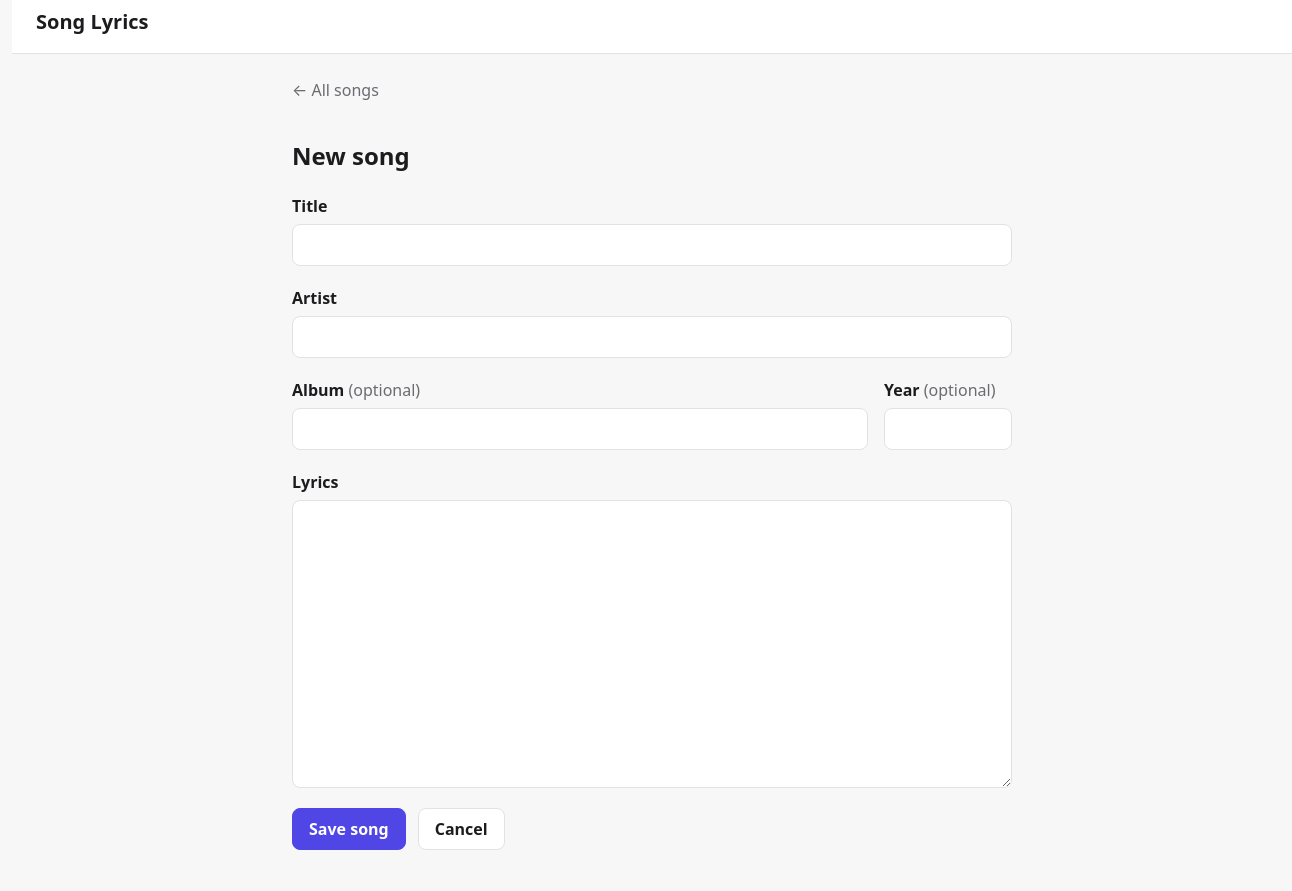
Scenario: SongFormPage — create › shows field errors returned by the server
The image size is (1292, 891).
Type "Sample" into the field labelled "Title" at coordinates (652, 245), box [292,224,1012,266]
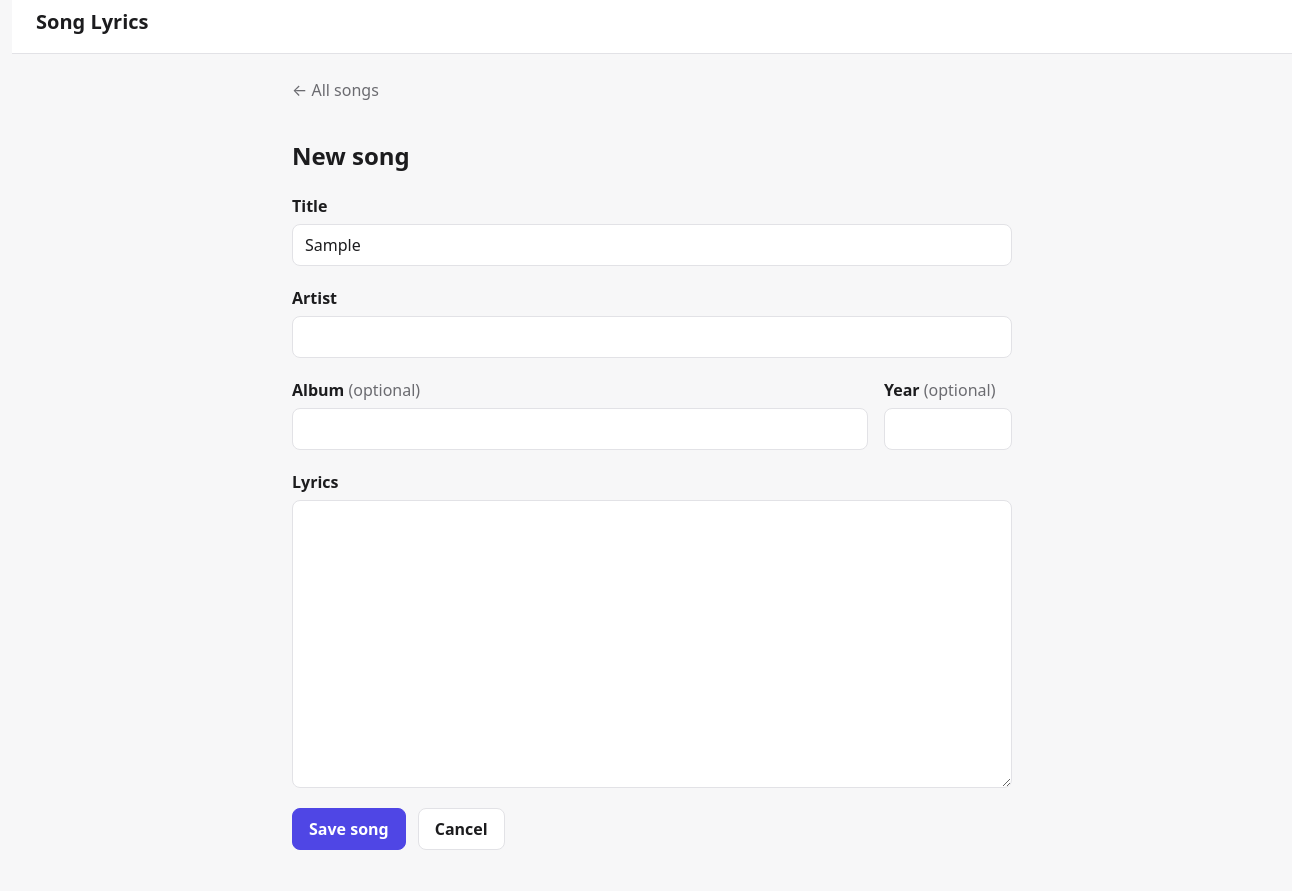
Type "Example Band" into the field labelled "Artist" at coordinates (652, 337), box [292,316,1012,358]
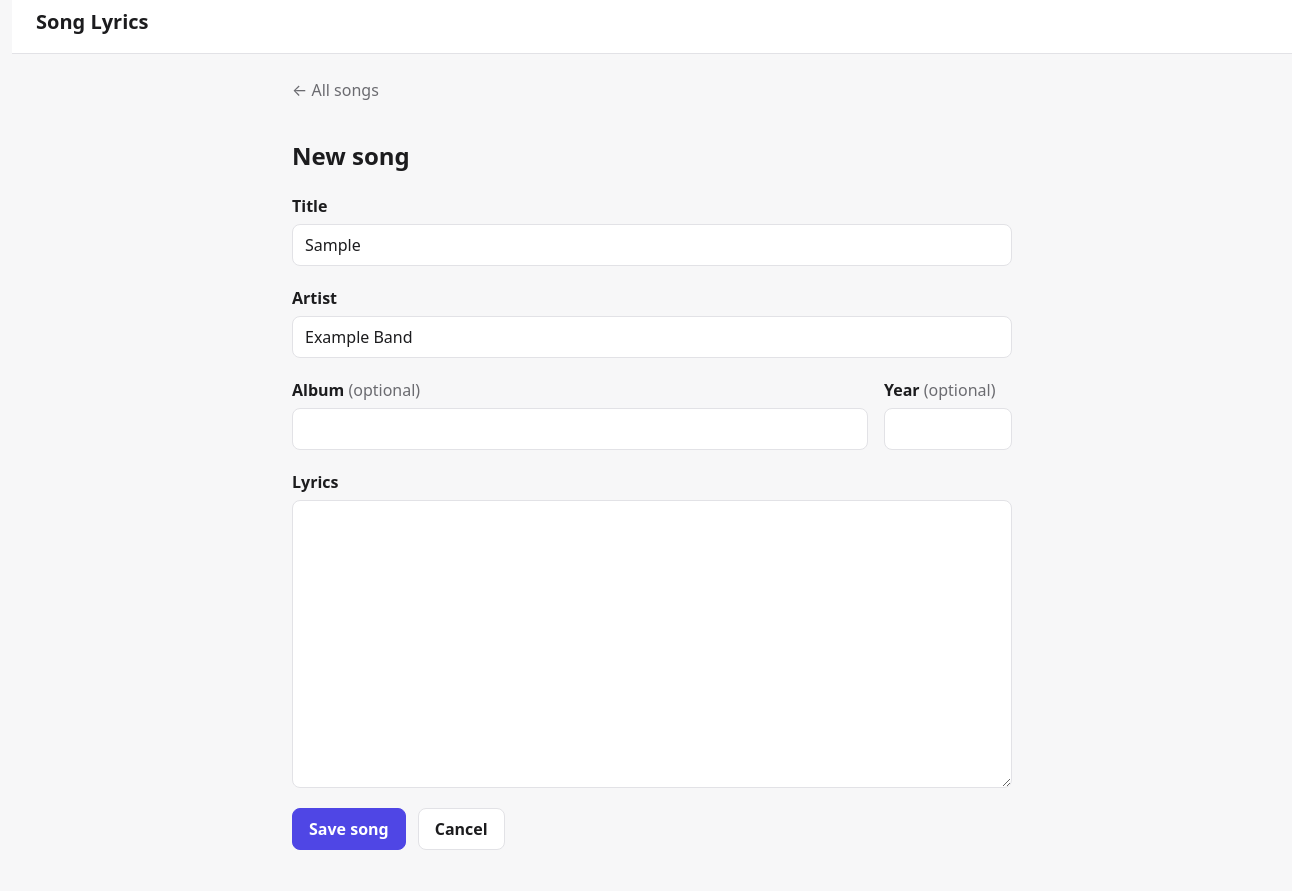
Type "Placeholder line" into the text box labelled "Lyrics" at coordinates (652, 644), box [292,500,1012,788]
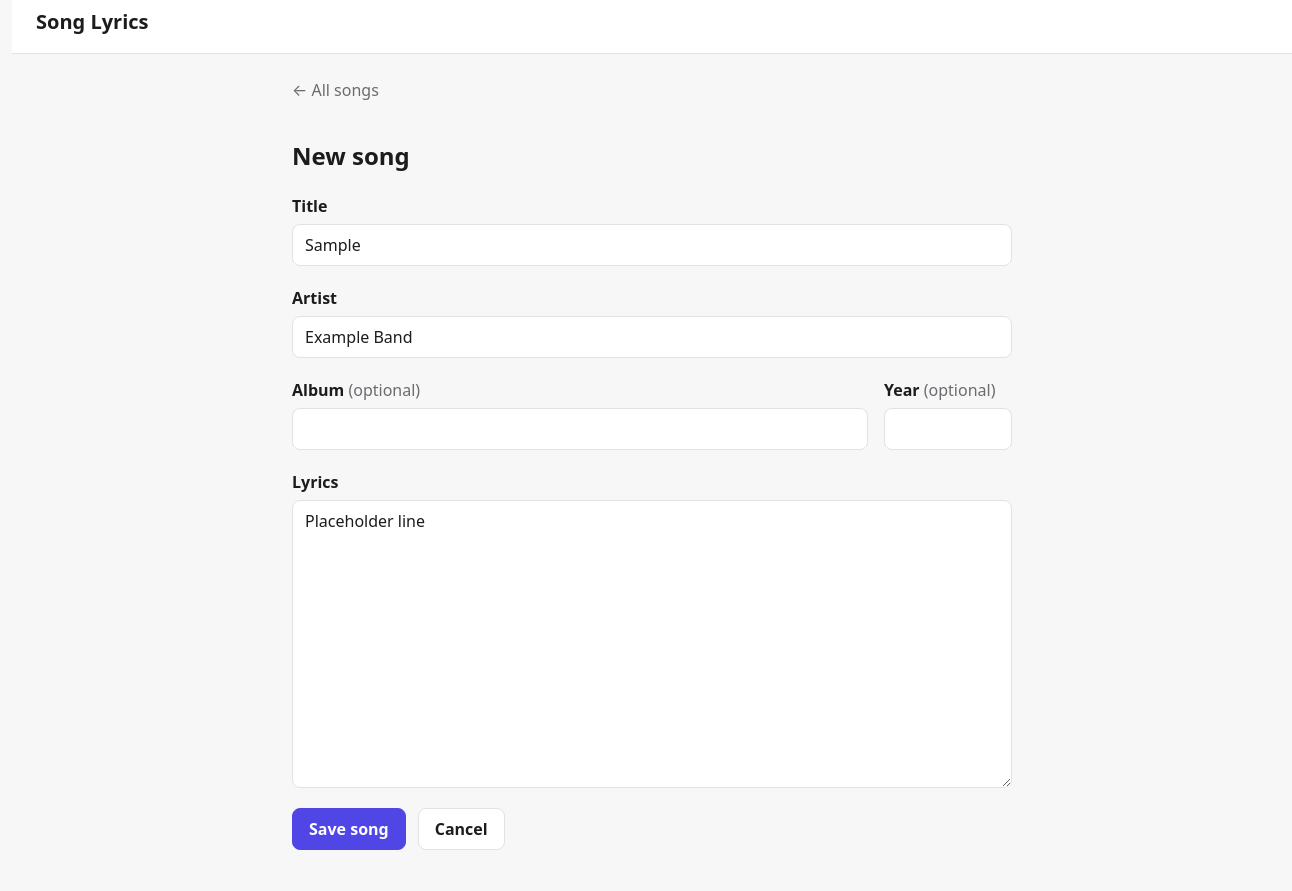
Click the button "Save song" at coordinates (349, 829), box [292,808,406,850]
(page scrolled)
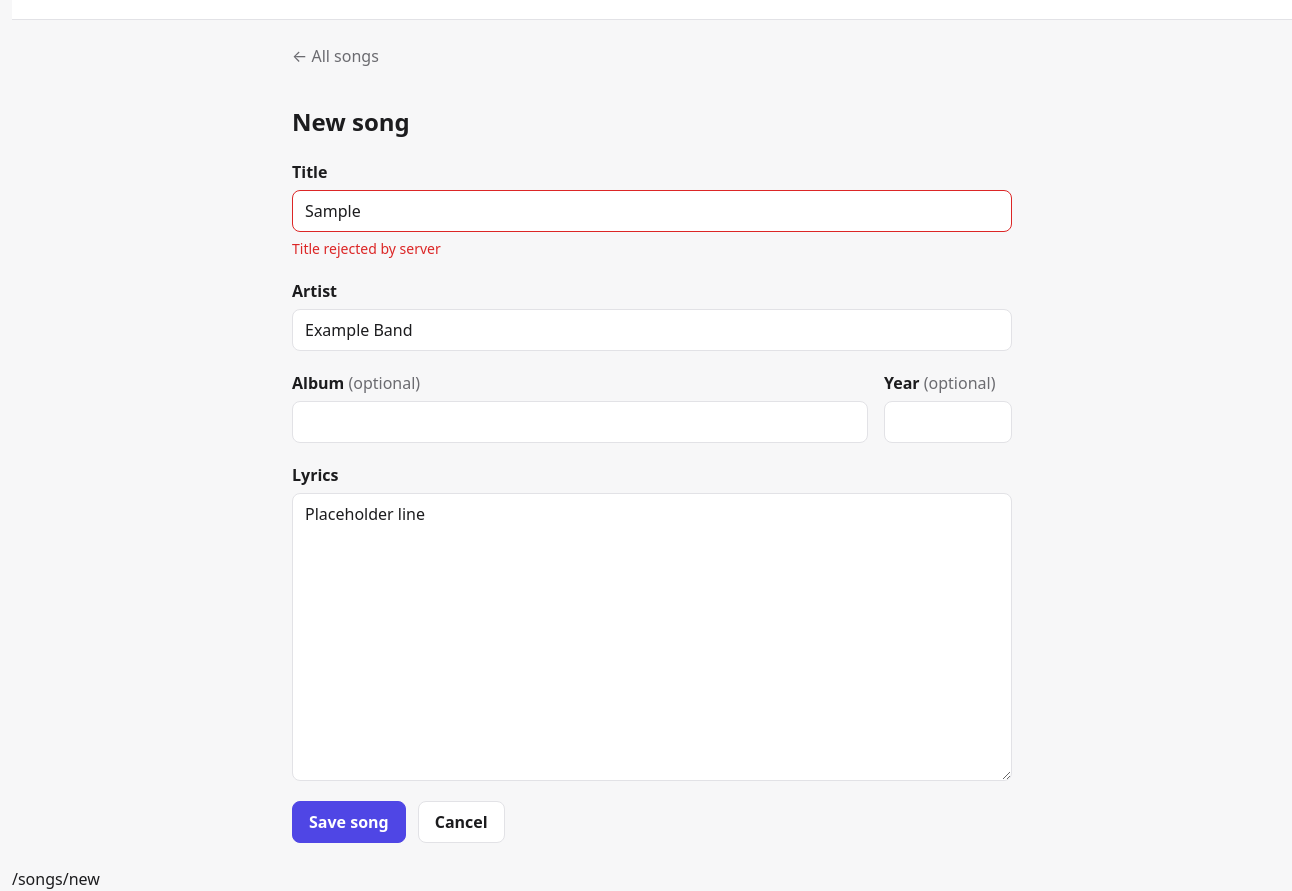
Expected: the text with test id "location" reads "/songs/new", [12,868,100,890]
Now the text "Title rejected by server" is shown, box [292,239,441,258]
